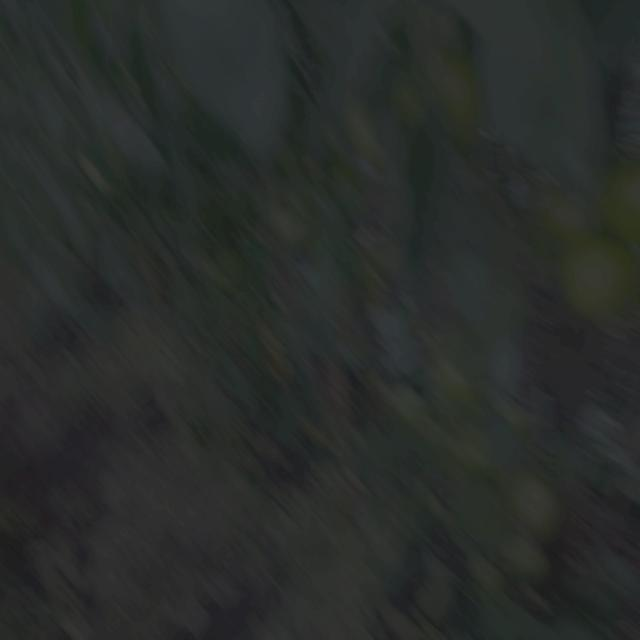tomato: (538, 159, 640, 318), (401, 49, 491, 146), (494, 456, 569, 550), (425, 336, 492, 421), (253, 183, 327, 254), (342, 87, 390, 171)
